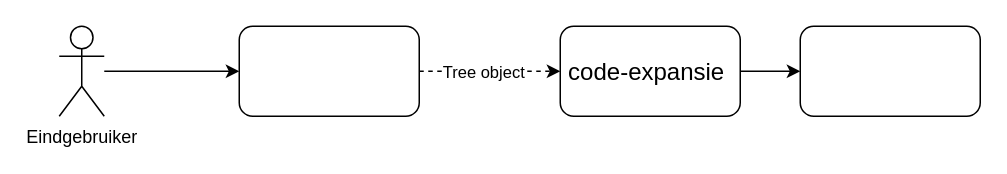
This 1007x174 diagram has some shape labels left out. Here are the shapes that lost their labels. From the top down, the centre of each, then its label:
point 328,70: DSL
point 889,70: Code
